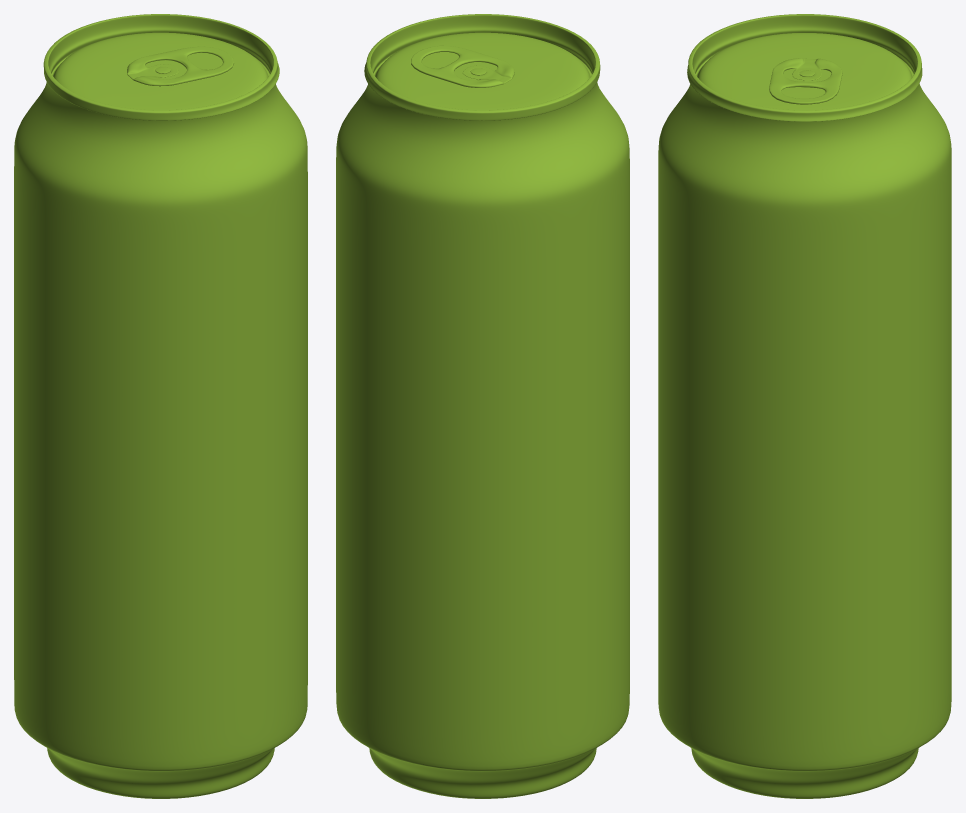
File: can.glb
3 views of the same model, side by side, from view 1: azimuth 30°, elevation 25°; view 2: azimuth 150°, elevation 25°; view 3: azimuth 270°, elevation 25° (orthographic).
Parts seen in each view (by area): view 1: Sketchfab Model; view 2: Sketchfab Model; view 3: Sketchfab Model.
Part boxes in pixels (<box>): Sketchfab Model: <box>14,14,307,798</box>; Sketchfab Model: <box>336,14,629,798</box>; Sketchfab Model: <box>658,14,951,798</box>.
Bounding box in the file's own units: 1.71 × 4.44 × 1.71.
